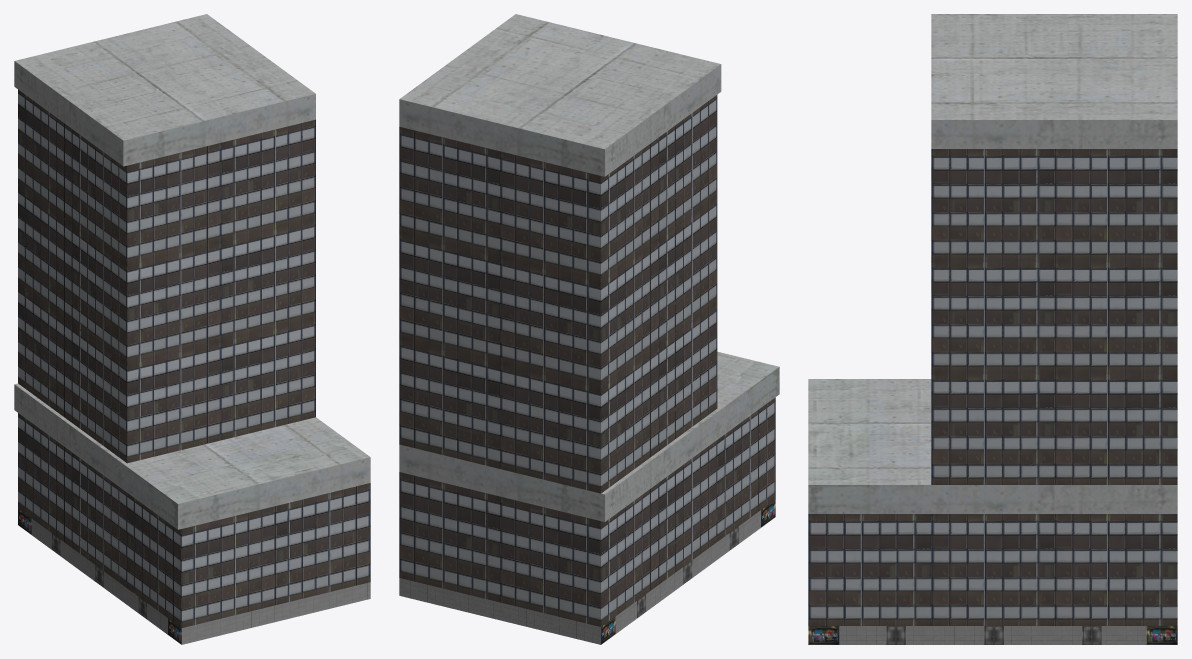
Rendered from Building021.fbx.
3 views of the same model, side by side, from view 1: azimuth 30°, elevation 25°; view 2: azimuth 150°, elevation 25°; view 3: azimuth 270°, elevation 25° (orthographic). The views are drawn at different scales.
Visible parts, largest first — view 1: Building021; view 2: Building021; view 3: Building021.
Part boxes in pixels (box(x1,y1,x2,y2)): Building021: box(14, 14, 370, 644); Building021: box(399, 14, 779, 644); Building021: box(808, 14, 1177, 644).
Bounding box in the file's own units: 30.52 × 70.45 × 44.9.
